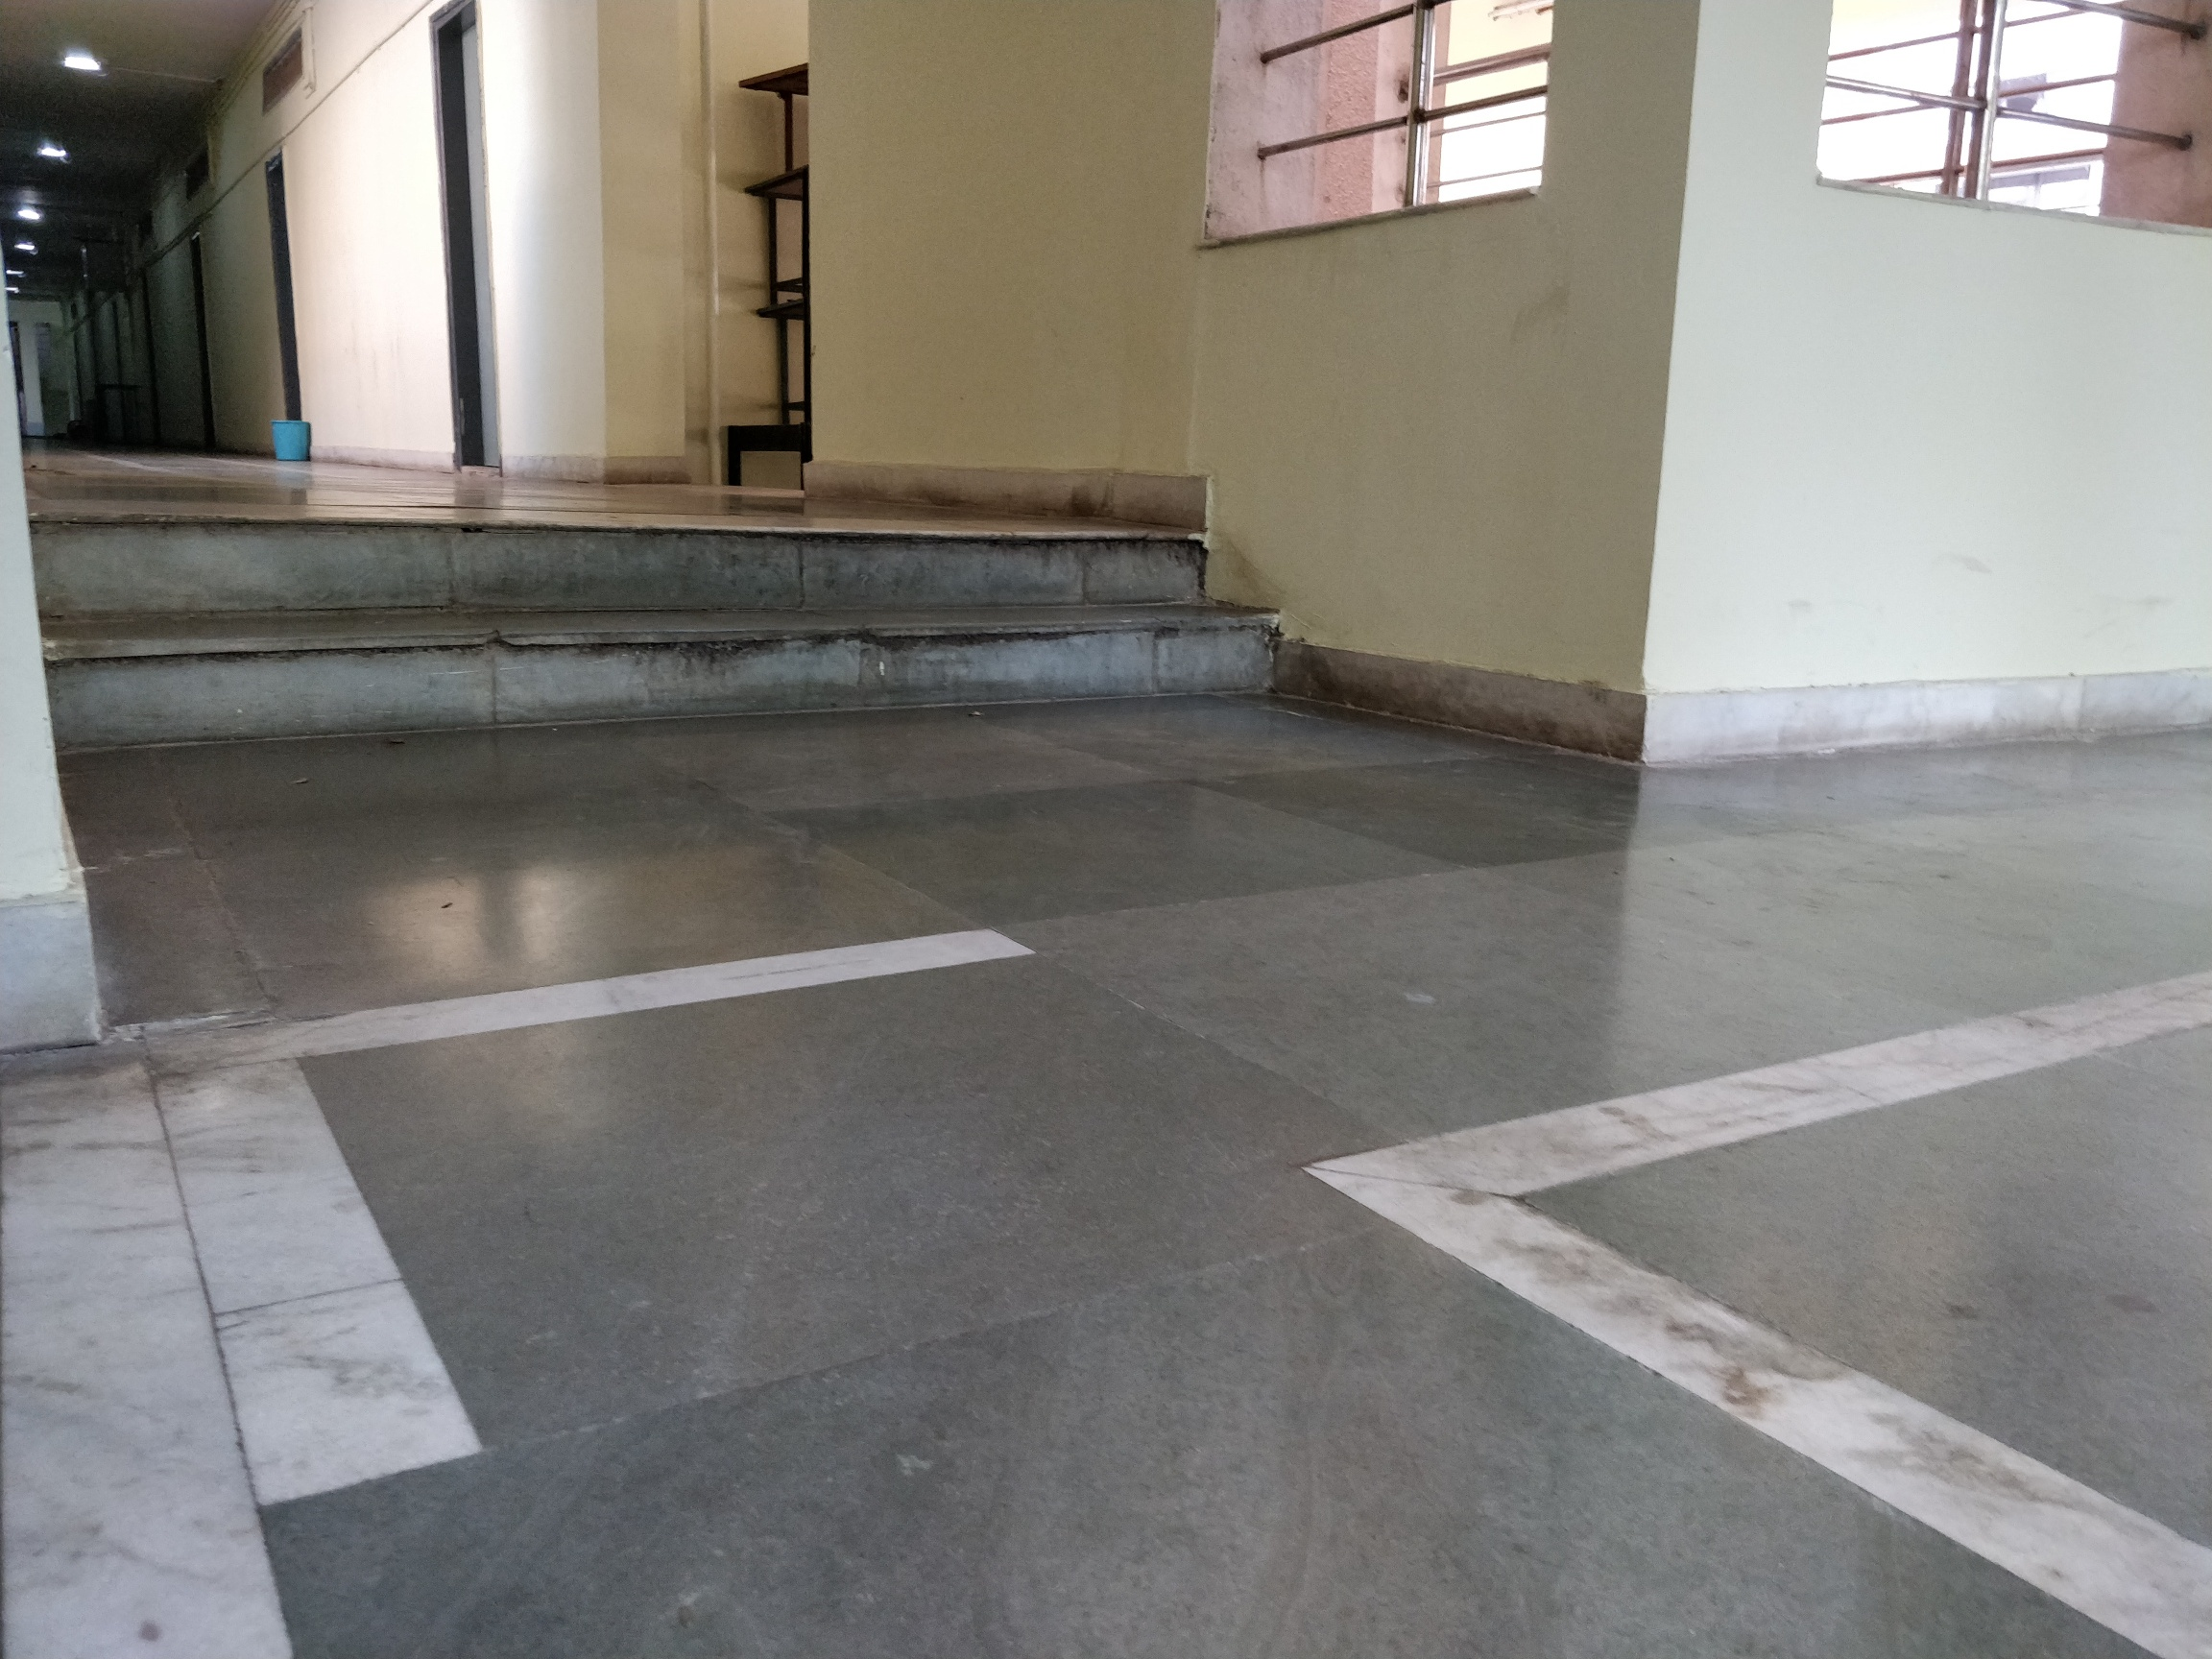stairs_up: (14, 504, 1362, 753)
